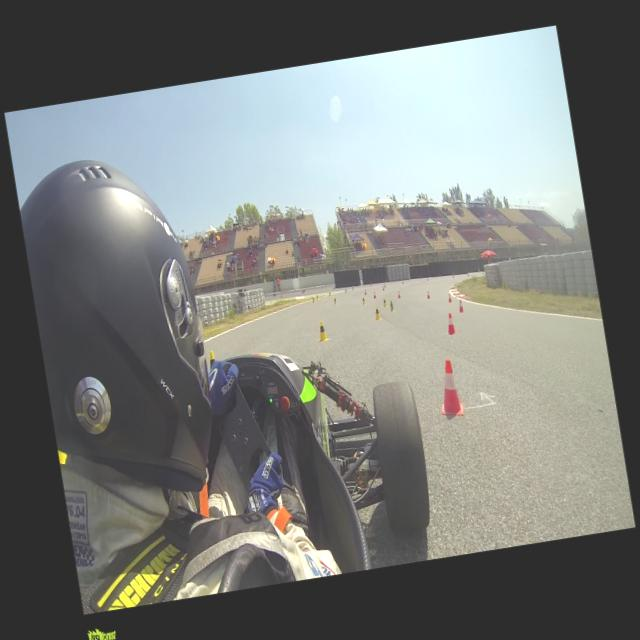orange_cone: (434, 358, 465, 419), (444, 312, 456, 336), (457, 299, 464, 313), (448, 293, 452, 303), (426, 290, 431, 298), (397, 292, 401, 298), (373, 292, 377, 298), (364, 289, 366, 295), (382, 285, 384, 290)
yellow_cone: (316, 319, 329, 342), (206, 350, 217, 370), (374, 306, 382, 321), (388, 300, 394, 312), (383, 298, 387, 307), (333, 296, 337, 304), (362, 296, 366, 304), (312, 296, 316, 302), (316, 294, 319, 300), (345, 288, 347, 293), (352, 286, 354, 290), (329, 292, 331, 296)
